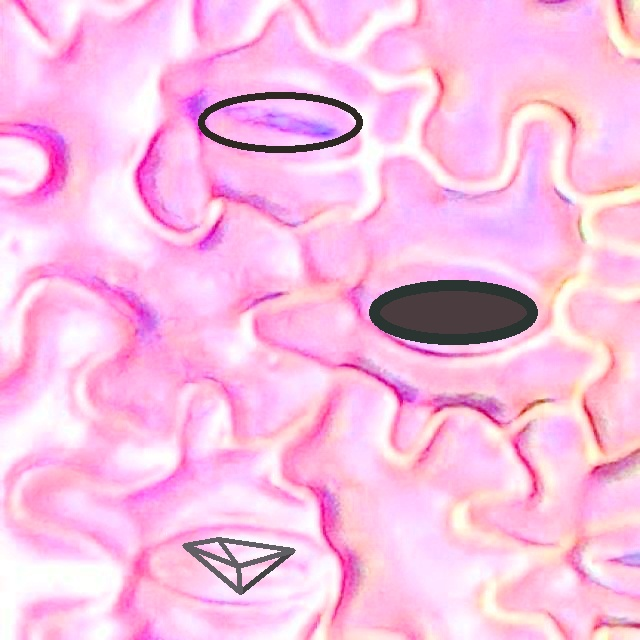close: (182, 537, 295, 594)
open: (369, 281, 537, 344), (198, 92, 361, 153)
